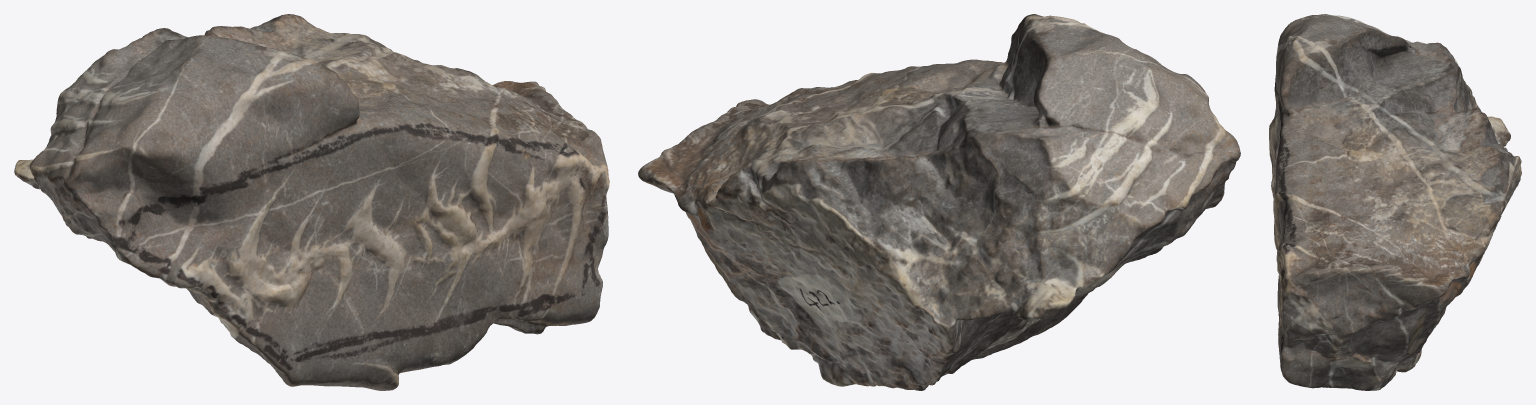
File: rotated.glb
The picture shows the model from 3 angles, left to right: view 1: azimuth 30°, elevation 25°; view 2: azimuth 150°, elevation 25°; view 3: azimuth 270°, elevation 25°; orthographic projection. The views are drawn at different scales.
Parts seen in each view (by area): view 1: input; view 2: input; view 3: input.
Part boxes in pixels (x1,y1,x2,y2): input: (14,14,609,390); input: (638,14,1240,390); input: (1269,14,1521,390).
Size of the model in its own units: 0.105 by 0.0679 by 0.0577.
Materials: 1 (1 with a texture image).
